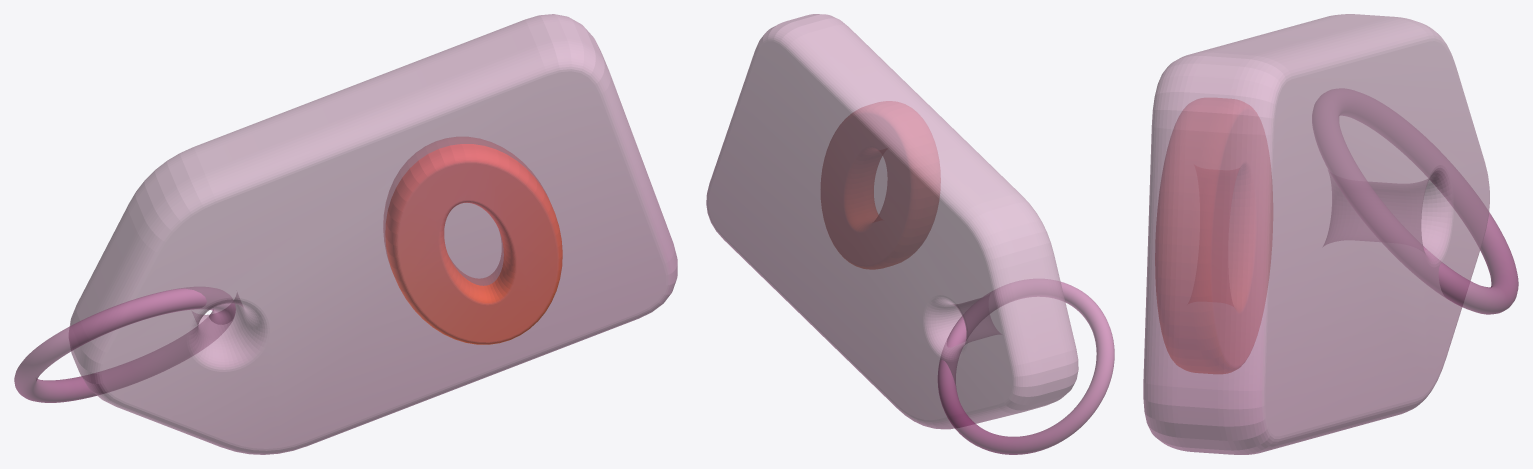
Rendered from free-tag.glb.
3 views of the same model, side by side, from view 1: azimuth 30°, elevation 25°; view 2: azimuth 150°, elevation 25°; view 3: azimuth 270°, elevation 25° (orthographic). The views are drawn at different scales.
Parts seen in each view (by area): view 1: tag, zero, string_loop; view 2: tag, zero, string_loop; view 3: tag, zero, string_loop.
Part boxes in pixels (x1,y1,x2,y2): tag: (69, 14, 677, 454); zero: (383, 137, 562, 344); string_loop: (14, 287, 235, 402); tag: (706, 14, 1078, 429); zero: (821, 101, 940, 268); string_loop: (937, 279, 1114, 454); tag: (1143, 14, 1489, 454); zero: (1155, 98, 1272, 373); string_loop: (1312, 89, 1518, 314).
Bounding box in the file's own units: 0.9249 × 0.6221 × 0.439.
